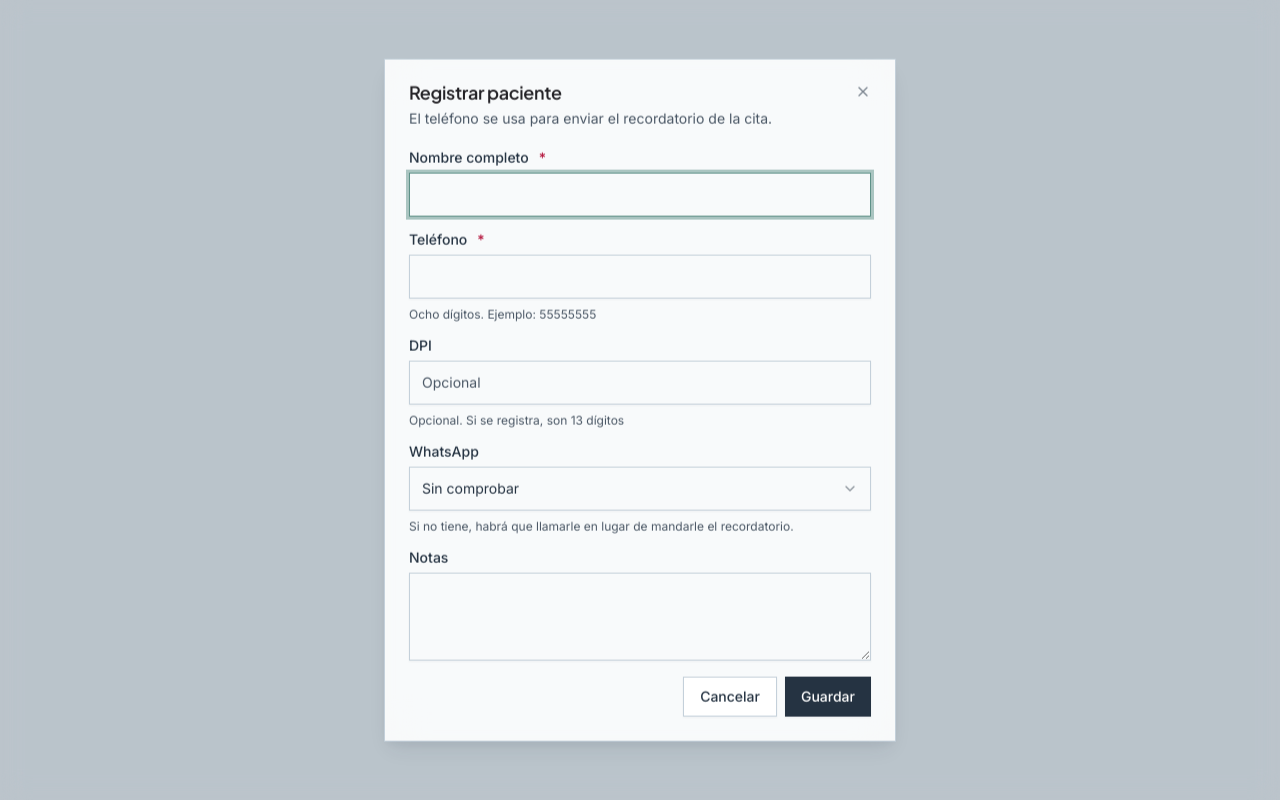
PacienteFormDialog › exige el nombre completo
Type "55555555" into the field labelled "Teléfono *". click: (640, 276)
box: [409,254,871,298]
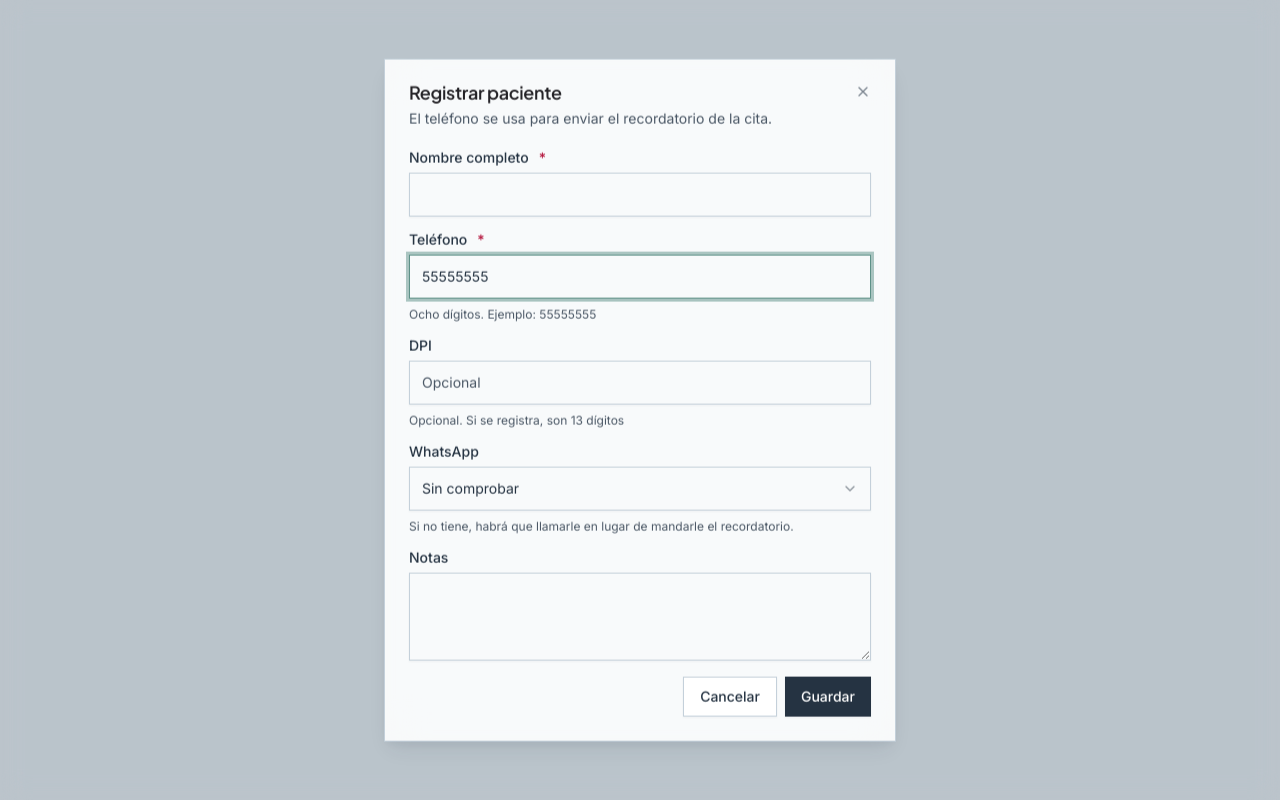
Click the button "Guardar". click: (828, 696)
box: [785,676,871,716]
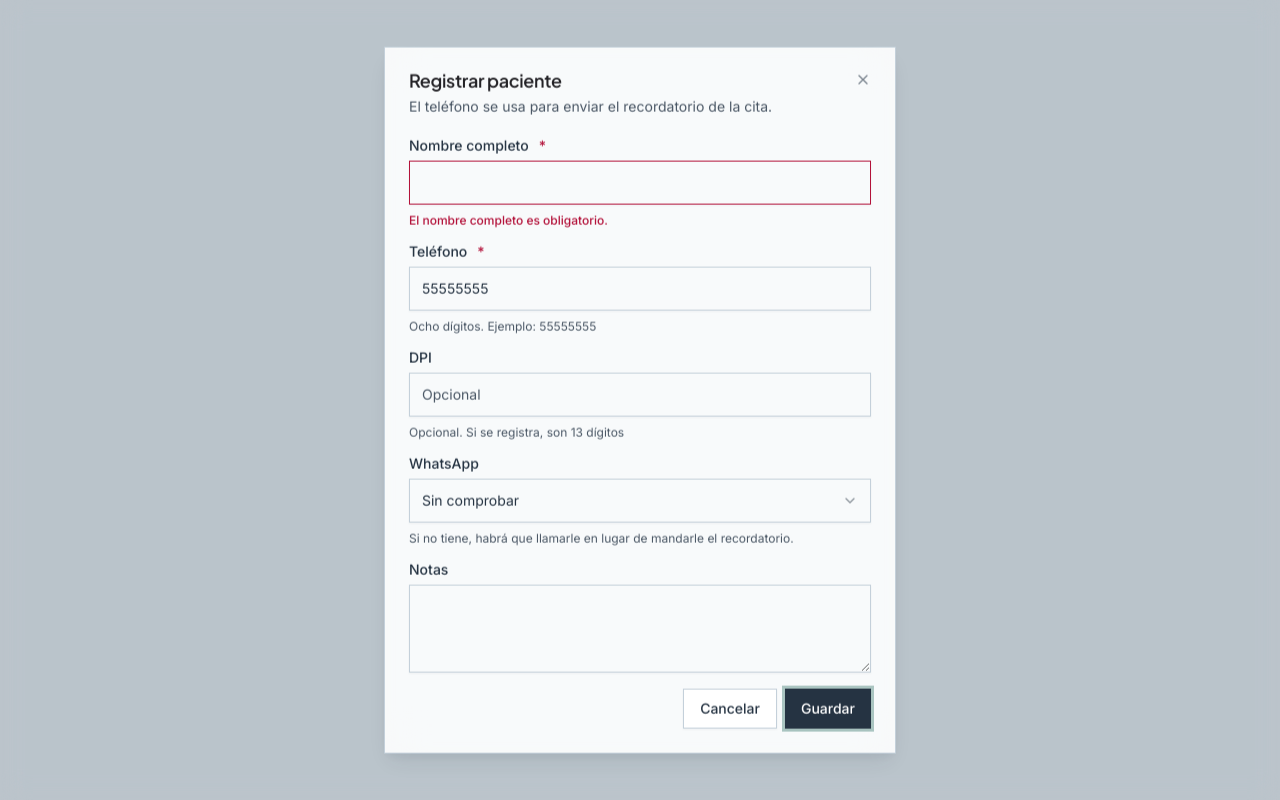
Check: the text "El nombre completo es obligatorio." is shown, box [409,212,608,227]
